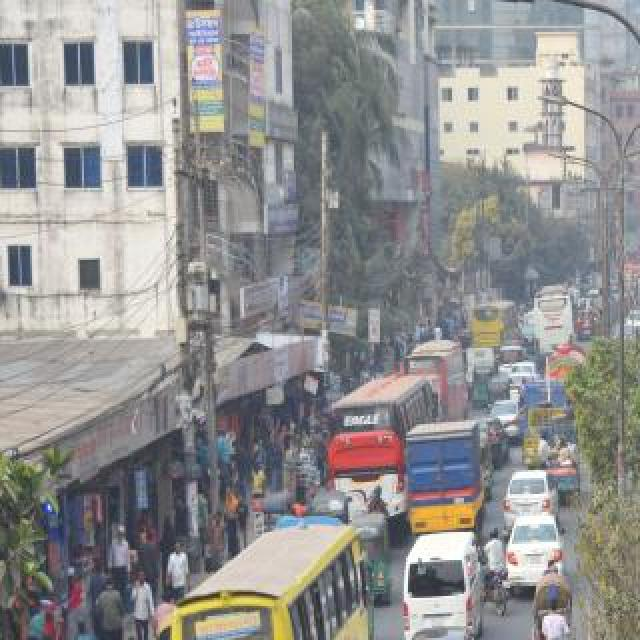bus: (162, 508, 378, 640), (325, 368, 433, 528), (401, 338, 469, 420), (532, 278, 580, 358), (469, 300, 519, 346), (636, 262, 640, 310)
car: (506, 514, 564, 594), (505, 466, 563, 524), (480, 416, 508, 466), (492, 400, 522, 442), (404, 628, 492, 640)
motorbike: (482, 524, 512, 618)
truck: (548, 343, 592, 391)
van: (404, 418, 486, 540), (404, 528, 486, 640), (524, 402, 584, 496), (519, 376, 567, 440)
